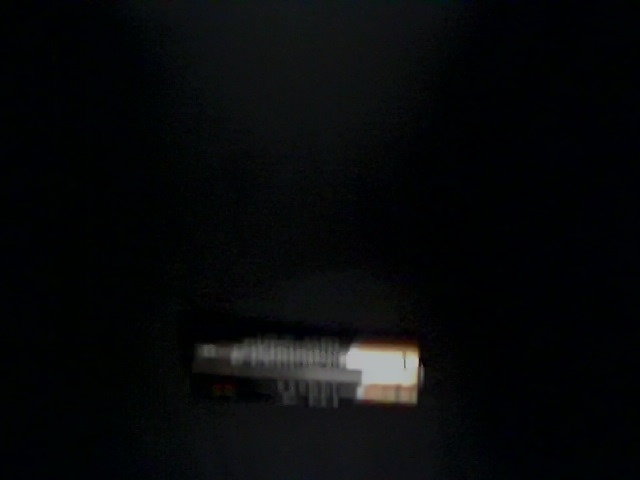QTLJ: (394, 364, 598, 480)
